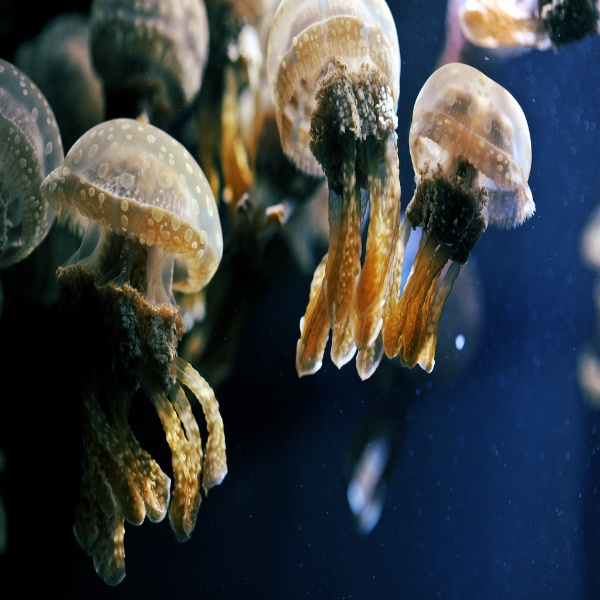Jellyfish: (40, 114, 233, 590), (265, 0, 398, 378), (380, 57, 536, 373), (86, 0, 213, 126), (0, 56, 64, 267), (459, 0, 598, 48)
